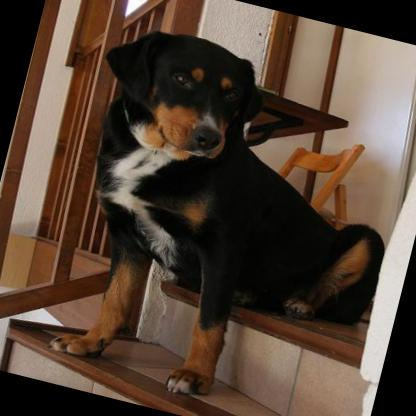Appenzeller: (27, 15, 416, 416)
